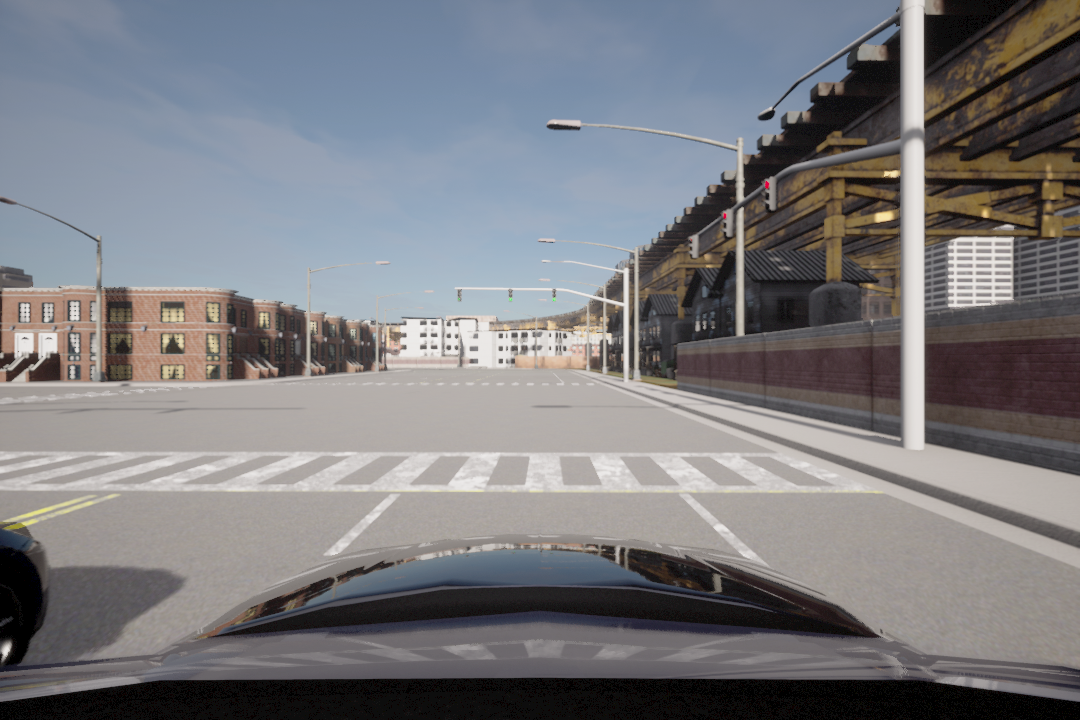TrafficLight: (758, 177, 776, 214), (719, 207, 737, 241), (688, 235, 701, 259), (507, 286, 517, 308), (454, 286, 463, 303), (550, 286, 558, 302)
walkside: (1, 445, 884, 499)
